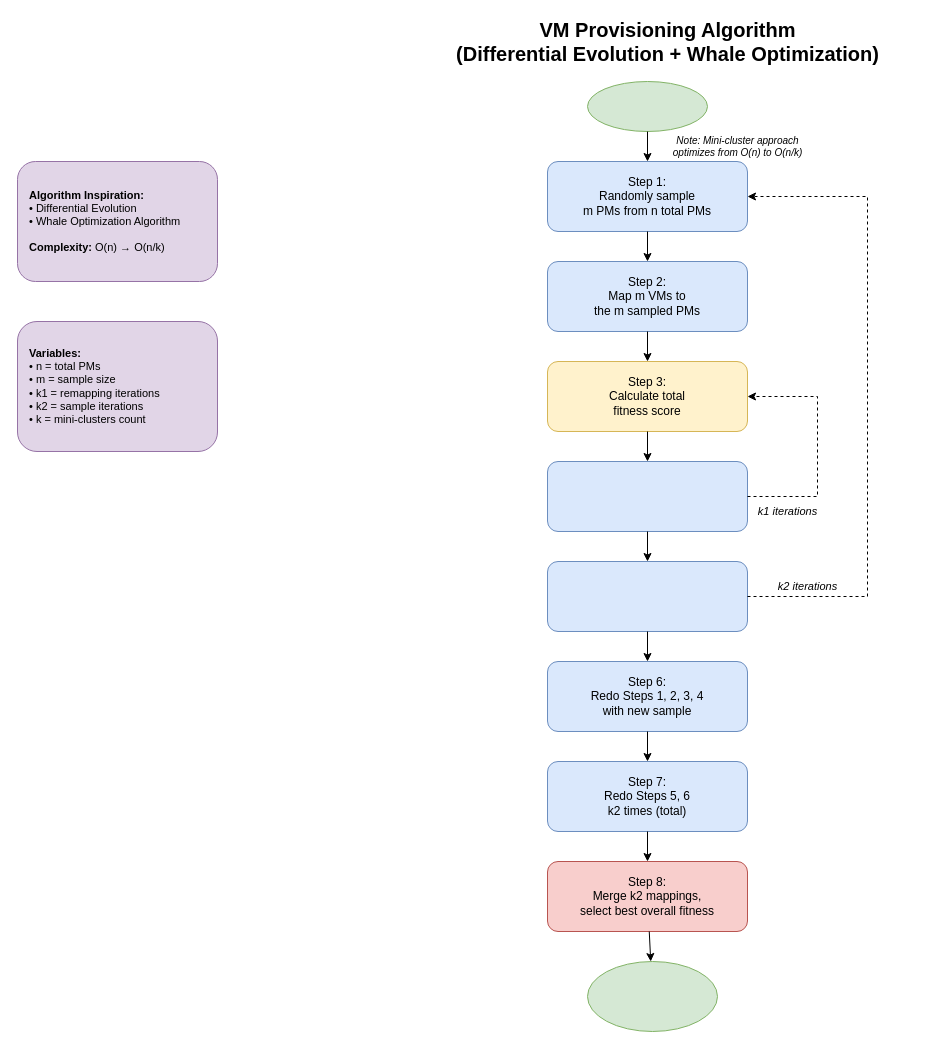
Image size: 935x1049. Some labels were removed from this diagram. The shapes that lost their labels are listed below. From the top down, each one's box as (x1, y1, x2, y2) in pixels, then its label:
(586, 80, 708, 132): Start
(546, 460, 748, 532): Step 4: Remap k1 times, keep best fitness mapping
(546, 560, 748, 632): Step 5: Take different sample of m PMs
(586, 960, 718, 1032): End (Optimal Mapping)
